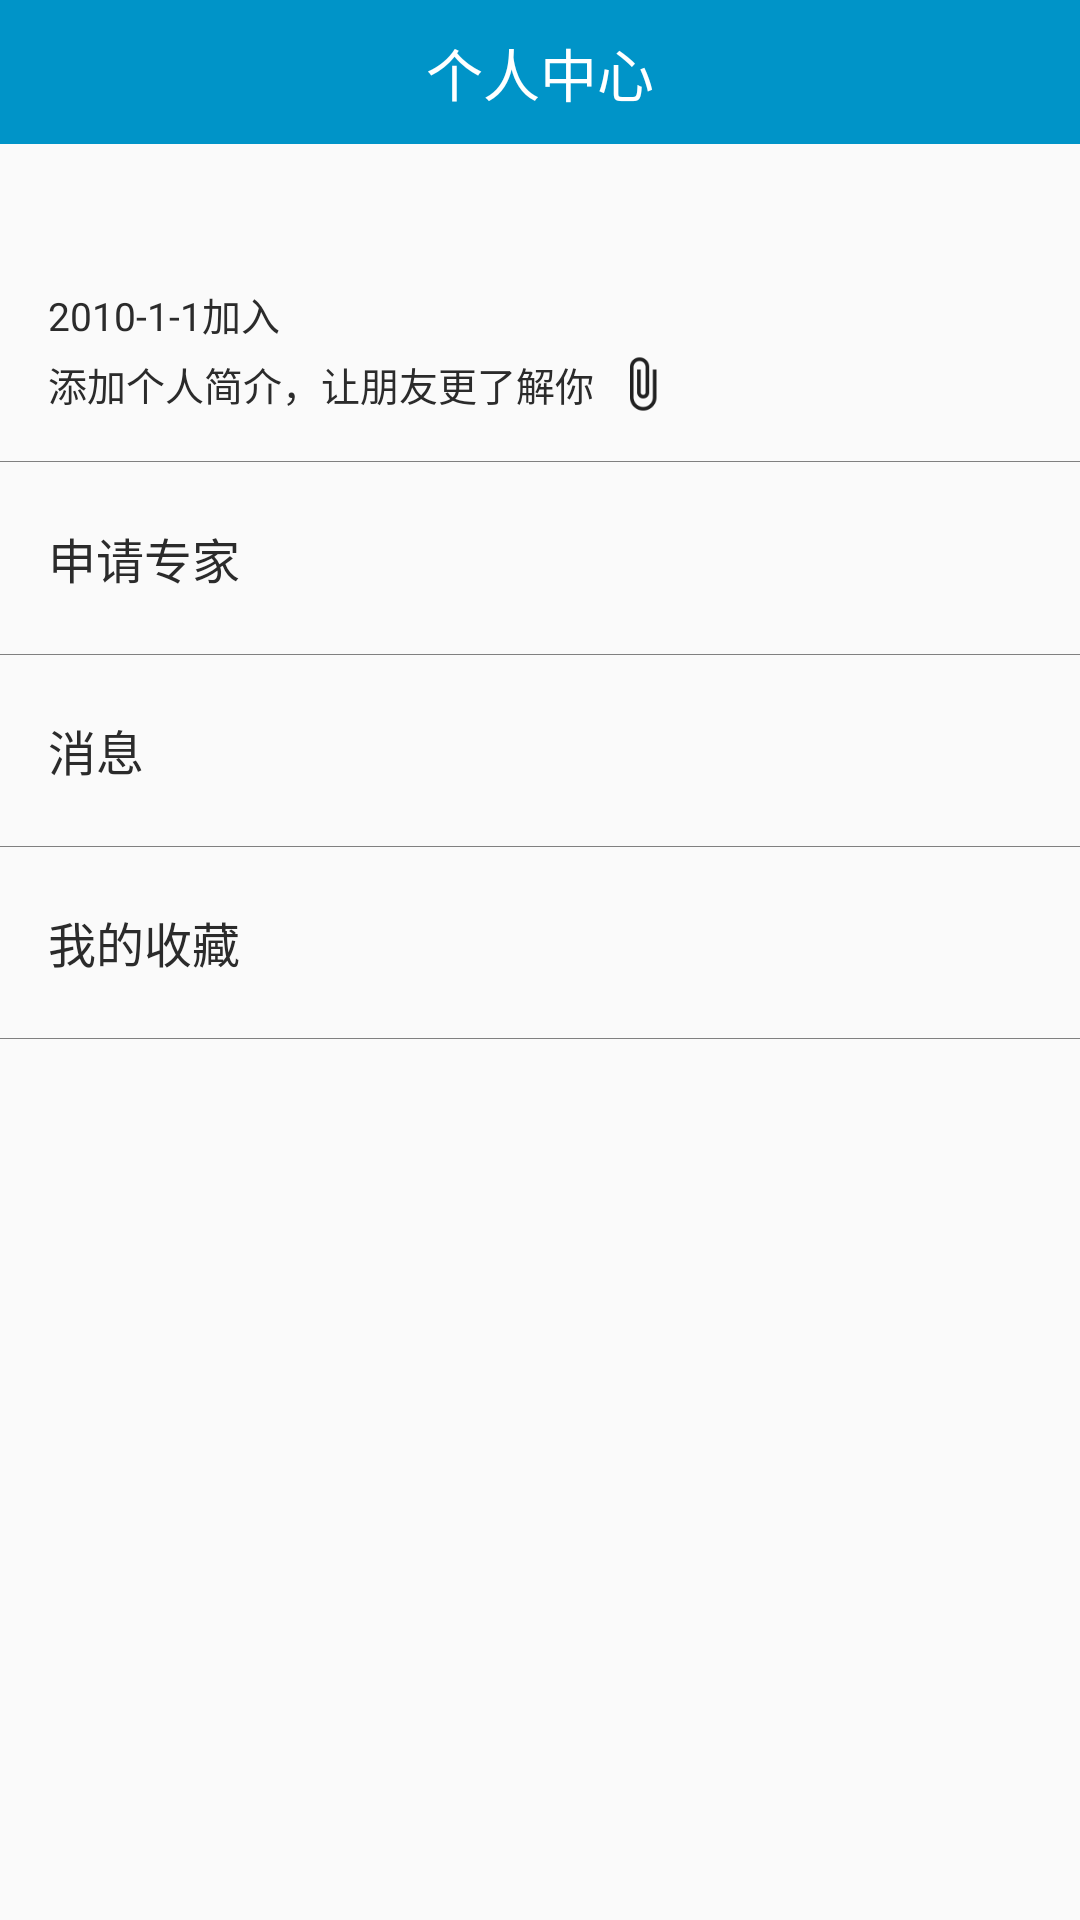

Where to tap for icons on this 1080x1920 app screen, as (x=x, y=y):
attach file: (x=643, y=384)
